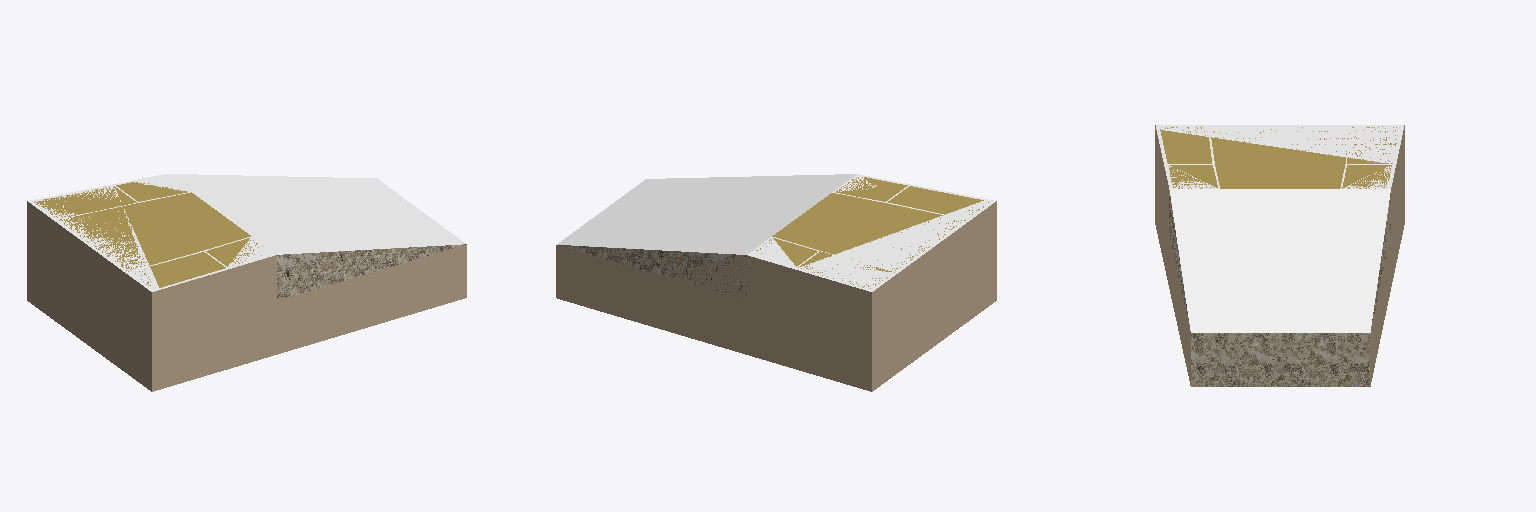
3 renders of one model, left to right at view 1: azimuth 30°, elevation 25°; view 2: azimuth 150°, elevation 25°; view 3: azimuth 270°, elevation 25°, orthographic.
Parts seen in each view (by area): view 1: Mesh1 Model; view 2: Mesh1 Model; view 3: Mesh1 Model.
Boxes of the visible parts, x1,y1,x2,y2 form: Mesh1 Model: [27, 174, 466, 391]; Mesh1 Model: [556, 174, 996, 391]; Mesh1 Model: [1155, 125, 1404, 386].
Size of the model in its own units: 40.87 by 11.71 by 26.51.
8 materials, 2 textured.